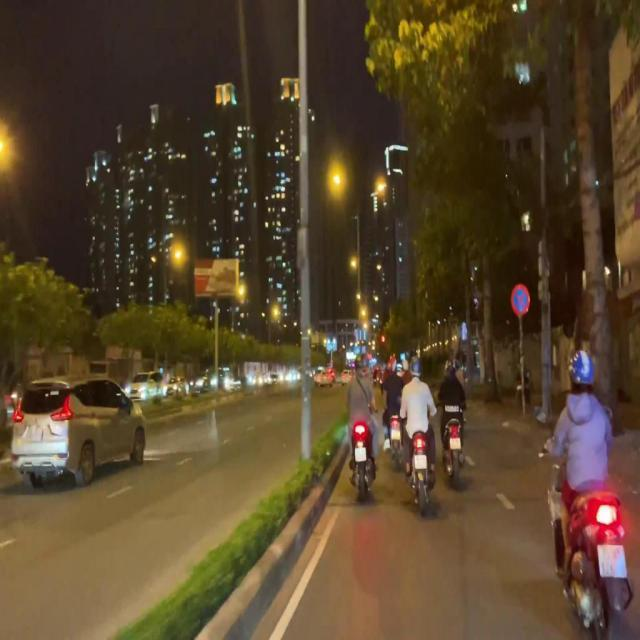130-cam-dung-va-do-xe: (511, 284, 531, 316)
